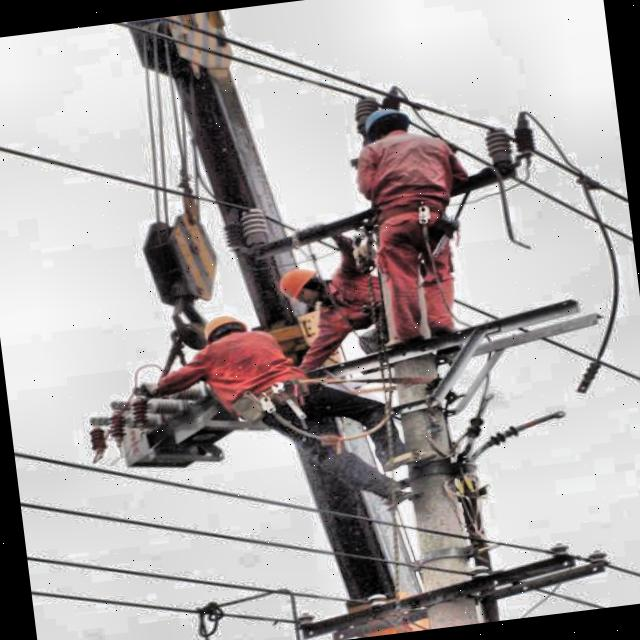helmet: (356, 98, 420, 150), (275, 262, 337, 308), (200, 310, 250, 351)
